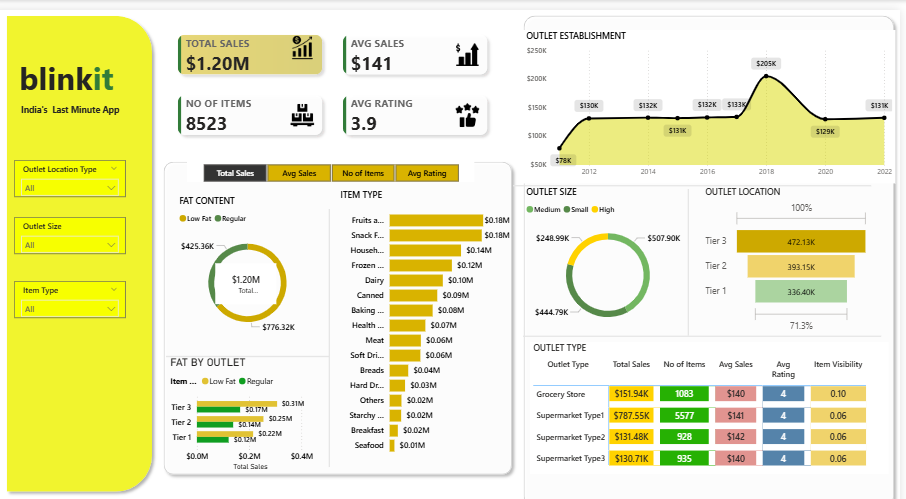

The page's visual inventory and layout, read from the dashboard file:
{"tool":"powerbi","page":{"name":"Page 1","canvas":[1400,800],"ordinal":0},"visuals":[{"type":"shape","box":[17.1,0,241.4,750],"z":0},{"type":"textbox","box":[37.1,65.7,161.4,74.3],"z":1000},{"type":"textbox","box":[36.7,139.6,172.7,33.1],"z":2000},{"type":"cardVisual","fields":{"Data":["BlinkIT Grocery Data.Total Sales","BlinkIT Grocery Data.Avg Sales","BlinkIT Grocery Data.No of Items","BlinkIT Grocery Data.Avg Rating"]},"box":[259.4,9.4,535.4,213.5],"z":3000},{"type":"shape","box":[258.3,224,553.1,499],"z":4000},{"type":"donutChart","title":"FAT CONTENT","fields":{"Y":["BlinkIT Grocery Data.Total Sales"],"Category":["BlinkIT Grocery Data.Item Fat Content"]},"box":[286.2,284.6,220,226.2],"z":5000},{"type":"slicer","title":"Fa","fields":{"Values":["Metrics.Metrics"]},"box":[303.1,230.8,441.5,33.8],"z":6000},{"type":"clusteredBarChart","title":"FAT BY OUTLET","fields":{"Category":["BlinkIT Grocery Data.Outlet Location Type"],"Y":["BlinkIT Grocery Data.Total Sales"],"Series":["BlinkIT Grocery Data.Item Fat Content"]},"box":[272.3,532.3,233.8,181.5],"z":7000},{"type":"cardVisual","fields":{"Data":["BlinkIT Grocery Data.Total Sales"]},"box":[344,385.6,105.6,72],"z":8000},{"type":"shape","box":[270,522.9,251.4,20],"z":9000},{"type":"barChart","title":"ITEM TYPE","fields":{"Y":["BlinkIT Grocery Data.Total Sales"],"Category":["BlinkIT Grocery Data.Item Type"]},"box":[533.8,275.4,270.8,418.5],"z":10000},{"type":"shape","box":[812.9,0,587.1,774.3],"z":11000},{"type":"lineChart","title":"OUTLET ESTABLISHMENT","fields":{"Y":["BlinkIT Grocery Data.Total Sales"],"Category":["BlinkIT Grocery Data.Outlet Establishment Year"]},"box":[820,31.4,572.9,235.7],"z":12000},{"type":"donutChart","title":"OUTLET SIZE","fields":{"Y":["BlinkIT Grocery Data.Total Sales"],"Category":["BlinkIT Grocery Data.Outlet Size"]},"box":[820,270,261.4,230],"z":13000},{"type":"shape","box":[488.6,305.7,65.7,397.1],"z":14000},{"type":"shape","box":[1041.4,275.7,65.7,225.7],"z":15000},{"type":"funnel","title":"OUTLET LOCATION ","fields":{"Y":["Sum(BlinkIT Grocery Data.Sales)"],"Category":["BlinkIT Grocery Data.Outlet Location Type"]},"box":[1095.7,270,261.4,230],"z":16000},{"type":"shape","box":[804.3,264.3,551.4,11.4],"z":17000},{"type":"shape","box":[820,487.1,551.4,28.6],"z":18000},{"type":"pivotTable","title":"OUTLET TYPE","fields":{"Rows":["BlinkIT Grocery Data.Outlet Type"],"Values":["BlinkIT Grocery Data.Total Sales","BlinkIT Grocery Data.No of Items","BlinkIT Grocery Data.Avg Sales","BlinkIT Grocery Data.Avg Rating","Avg(BlinkIT Grocery Data.Item Visibility)"]},"box":[830.8,510.8,552.3,203.1],"z":19000},{"type":"slicer","fields":{"Values":["BlinkIT Grocery Data.Outlet Location Type"]},"box":[36.9,230.8,172.3,56.9],"z":20000},{"type":"slicer","fields":{"Values":["BlinkIT Grocery Data.Outlet Size"]},"box":[36.9,318.5,172.3,56.9],"z":21000},{"type":"slicer","fields":{"Values":["BlinkIT Grocery Data.Item Type"]},"box":[36.9,416.9,172.3,56.9],"z":22000}]}

Visuals, with their boxes on the page's 1400x800 design canvas (x1, y1, x2, y2). These are canvas units, not pixel positions in the 906x499 screenshot, which may show the page scaled, cropped or inside an application window:
shape: box=[17, 0, 258, 750]
textbox: box=[37, 66, 198, 140]
textbox: box=[37, 140, 209, 173]
cardVisual - BlinkIT Grocery Data.Total Sales x BlinkIT Grocery Data.Avg Sales: box=[259, 9, 795, 223]
shape: box=[258, 224, 811, 723]
"FAT CONTENT" donutChart: box=[286, 285, 506, 511]
"Fa" slicer: box=[303, 231, 745, 265]
"FAT BY OUTLET" clusteredBarChart: box=[272, 532, 506, 714]
cardVisual - BlinkIT Grocery Data.Total Sales: box=[344, 386, 450, 458]
shape: box=[270, 523, 521, 543]
"ITEM TYPE" barChart: box=[534, 275, 805, 694]
shape: box=[813, 0, 1400, 774]
"OUTLET ESTABLISHMENT" lineChart: box=[820, 31, 1393, 267]
"OUTLET SIZE" donutChart: box=[820, 270, 1081, 500]
shape: box=[489, 306, 554, 703]
shape: box=[1041, 276, 1107, 501]
"OUTLET LOCATION " funnel: box=[1096, 270, 1357, 500]
shape: box=[804, 264, 1356, 276]
shape: box=[820, 487, 1371, 516]
"OUTLET TYPE" pivotTable: box=[831, 511, 1383, 714]
slicer - BlinkIT Grocery Data.Outlet Location Type: box=[37, 231, 209, 288]
slicer - BlinkIT Grocery Data.Outlet Size: box=[37, 318, 209, 375]
slicer - BlinkIT Grocery Data.Item Type: box=[37, 417, 209, 474]
